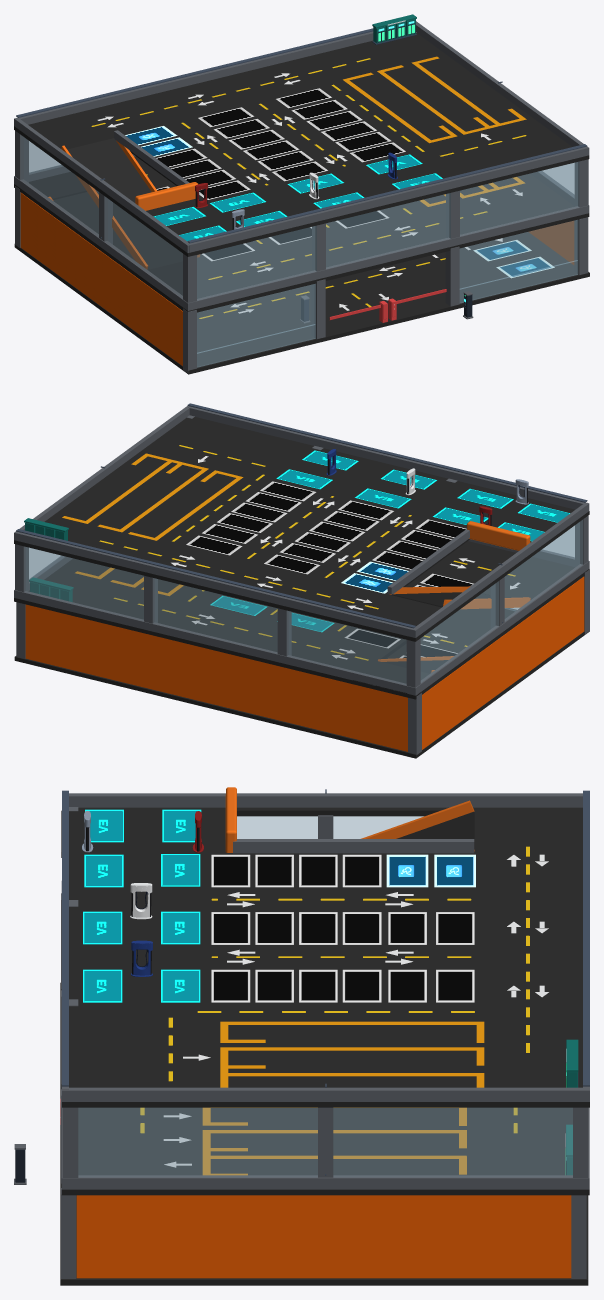
Rendered from indoor_parking_lot.glb.
3 views of the same model, one above another, from view 1: azimuth 30°, elevation 25°; view 2: azimuth 150°, elevation 25°; view 3: azimuth 270°, elevation 25° (orthographic). The views are drawn at different scales.
Parts seen in each view (by area): view 1: Floor_Slab_L2_Main, Floor_Slab_G, Rectangle 19, Floor_Slab_L1_Main, Back_Accent_Wall 4, Rectangle 21, Rectangle 17, Rectangle 18, Ramp_Slab_G_L1, Parapet_Front_L1, Parapet_Front_L2, Parapet_Back_L2 (+54 smaller); view 2: Floor_Slab_L2_Main, Back_Accent_Wall, Rectangle 20, Floor_Slab_L1_Main, Back_Accent_Wall 4, Rectangle 21, Floor_Slab_G, Parapet_Back_L1, Parapet_Back_L2, Parapet_Front_L2, Parapet_Left_L2, Parapet_Left_L1 (+53 smaller); view 3: Floor_Slab_L2_Main, Back_Accent_Wall 3, Rectangle 22, Floor_Slab_L1_Main, Parapet_Right_L2, Parapet_Right_L1, Parapet_Left_L2, Floor_Slab_G, Floor_Slab_L2_Back, Floor_Slab_L2_Front, Parapet_Left_L2 2, Rectangle 21 (+42 smaller).
Part boxes in pixels (x1,y1,x2,y2): Floor_Slab_L2_Main: [81, 33, 589, 241]; Floor_Slab_G: [14, 232, 589, 374]; Rectangle 19: [197, 162, 579, 300]; Floor_Slab_L1_Main: [134, 156, 589, 298]; Back_Accent_Wall 4: [20, 193, 182, 365]; Rectangle 21: [21, 135, 182, 297]; Rectangle 17: [197, 284, 315, 353]; Rectangle 18: [460, 220, 577, 289]; Ramp_Slab_G_L1: [67, 138, 198, 269]; Parapet_Front_L1: [190, 205, 589, 310]; Parapet_Front_L2: [188, 147, 587, 252]; Parapet_Back_L2: [19, 31, 373, 124]; Floor_Slab_L2_Main: [14, 417, 516, 625]; Back_Accent_Wall: [25, 604, 407, 751]; Rectangle 20: [24, 547, 406, 684]; Floor_Slab_L1_Main: [14, 541, 515, 683]; Back_Accent_Wall 4: [422, 576, 584, 749]; Rectangle 21: [421, 520, 582, 682]; Floor_Slab_G: [14, 608, 589, 758]; Parapet_Back_L1: [16, 590, 417, 695]; Parapet_Back_L2: [16, 532, 415, 637]; Parapet_Front_L2: [188, 406, 587, 509]; Parapet_Left_L2: [413, 503, 589, 637]; Parapet_Left_L1: [417, 561, 589, 693]; Floor_Slab_L2_Main: [62, 852, 589, 1107]; Back_Accent_Wall 3: [76, 1195, 571, 1278]; Rectangle 22: [78, 1108, 572, 1177]; Floor_Slab_L1_Main: [61, 1107, 589, 1195]; Parapet_Right_L2: [62, 1087, 589, 1101]; Parapet_Right_L1: [65, 1175, 589, 1189]; Parapet_Left_L2: [69, 793, 582, 807]; Floor_Slab_G: [60, 982, 588, 1285]; Floor_Slab_L2_Back: [474, 810, 582, 851]; Floor_Slab_L2_Front: [61, 810, 225, 857]; Parapet_Left_L2 2: [233, 839, 474, 853]; Rectangle 21: [237, 816, 423, 838].
Size of what is drawn, in the model's own units: 20.01 by 7.16 by 16.37.
Materials: 31 (3 with a texture image).
